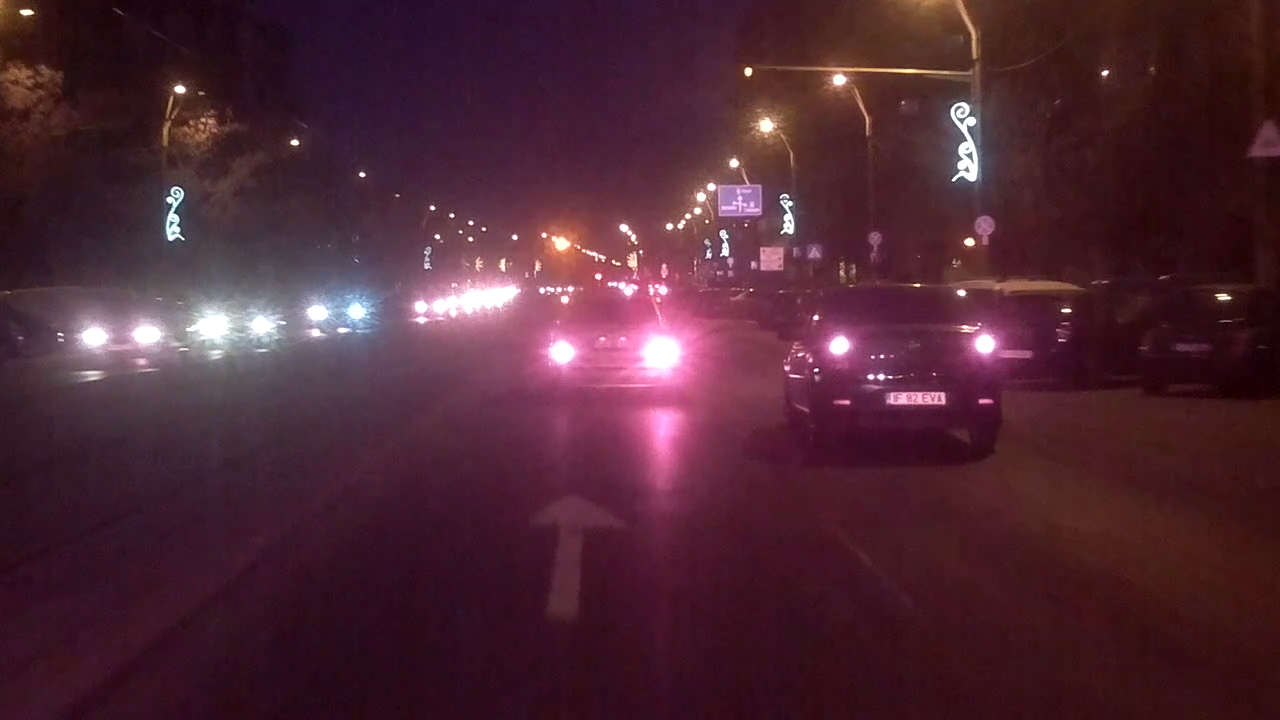license-plate: (881, 389, 949, 408)
